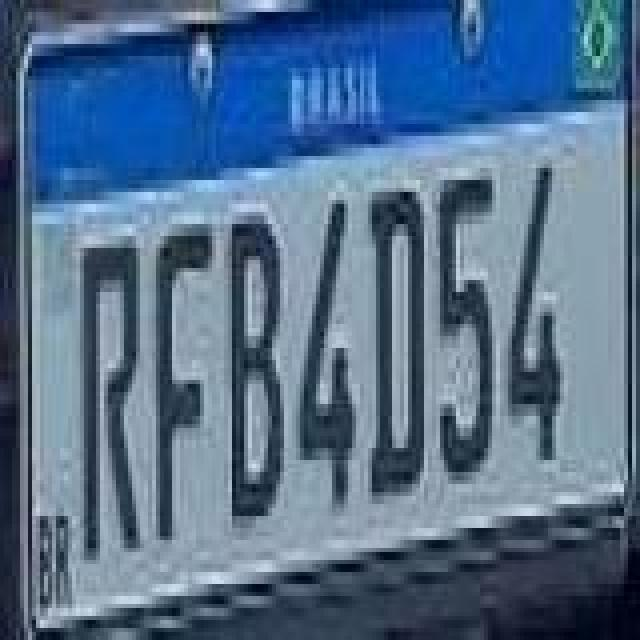4: (300, 196, 356, 508), (508, 160, 564, 464)
5: (434, 174, 494, 490)
B: (228, 216, 284, 520)
D: (372, 180, 428, 508)
F: (152, 220, 216, 548)
R: (80, 240, 144, 568)
